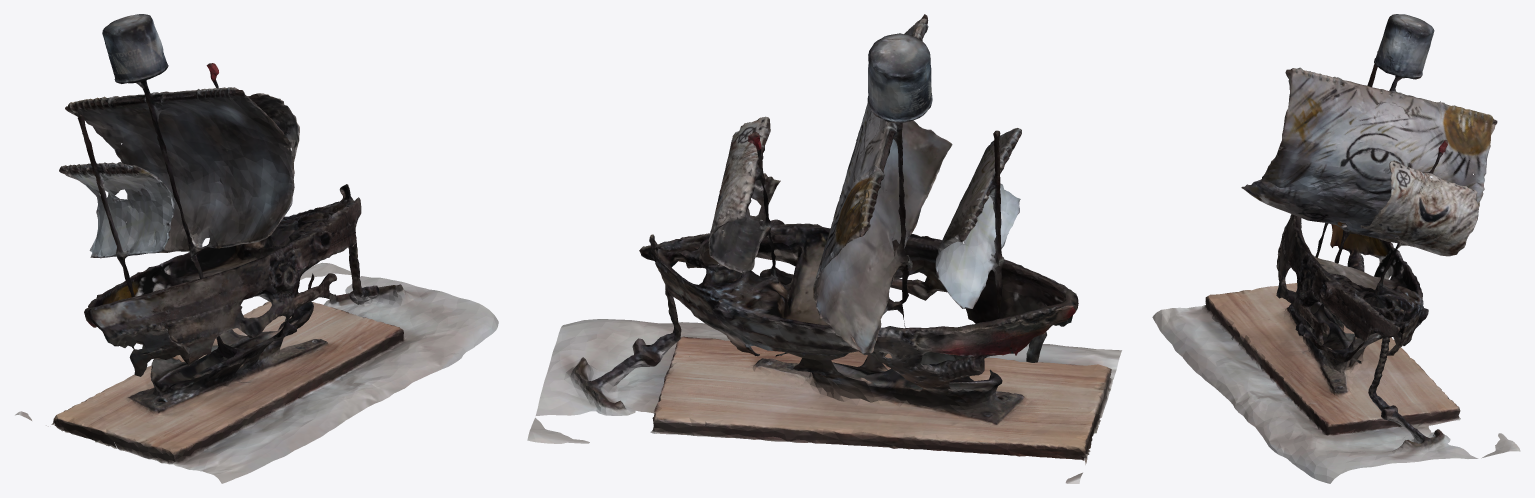
File: Metal-sculpture-ship.glb
3 views of the same model, side by side, from view 1: azimuth 30°, elevation 25°; view 2: azimuth 150°, elevation 25°; view 3: azimuth 270°, elevation 25° (orthographic). The views are drawn at different scales.
Size of the model in its own units: 0.692 by 0.508 by 0.5261.
Materials: 1 (1 with a texture image).
